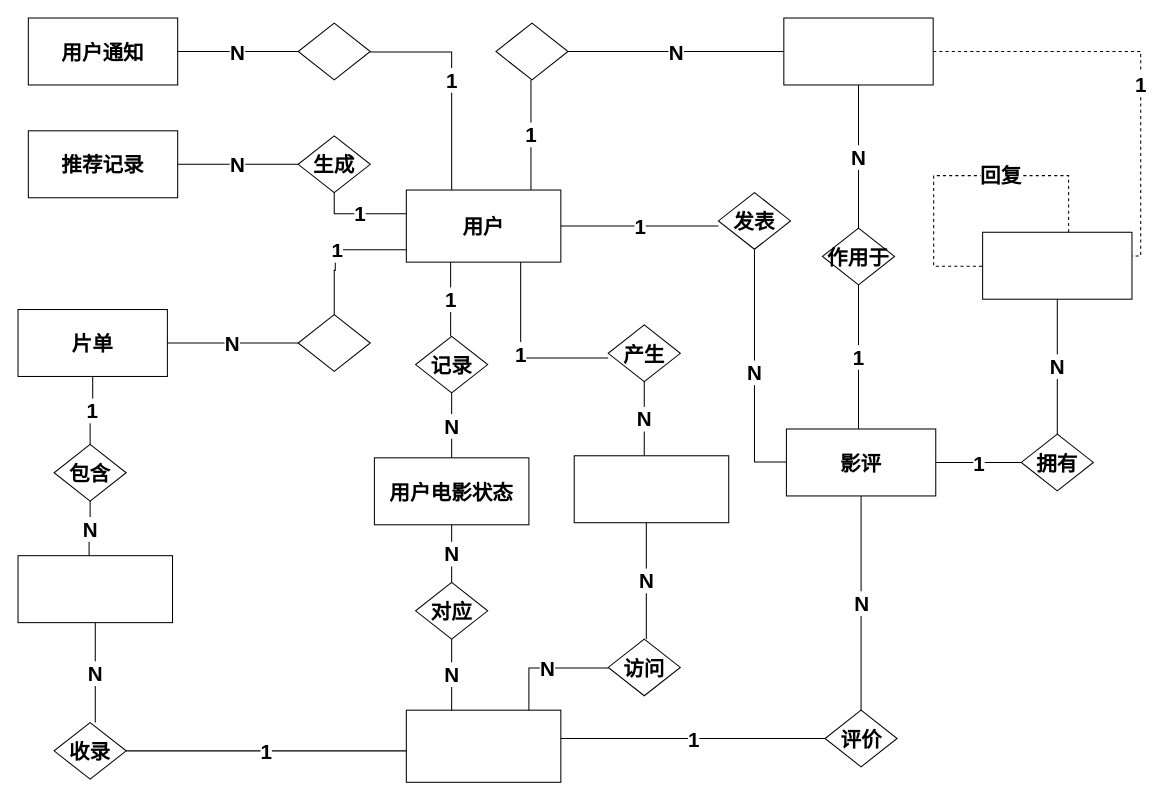
Image size: 1164x800. Some labels were removed from this diagram. Each missing label, with the centre of its shape:
创建: point 333,342
发起: point 531,51
接收: point 333,51
浏览历史: point 651,489
点赞: point 858,51
片单明细: point 95,589
电影: point 483,745
评论: point 1057,265
